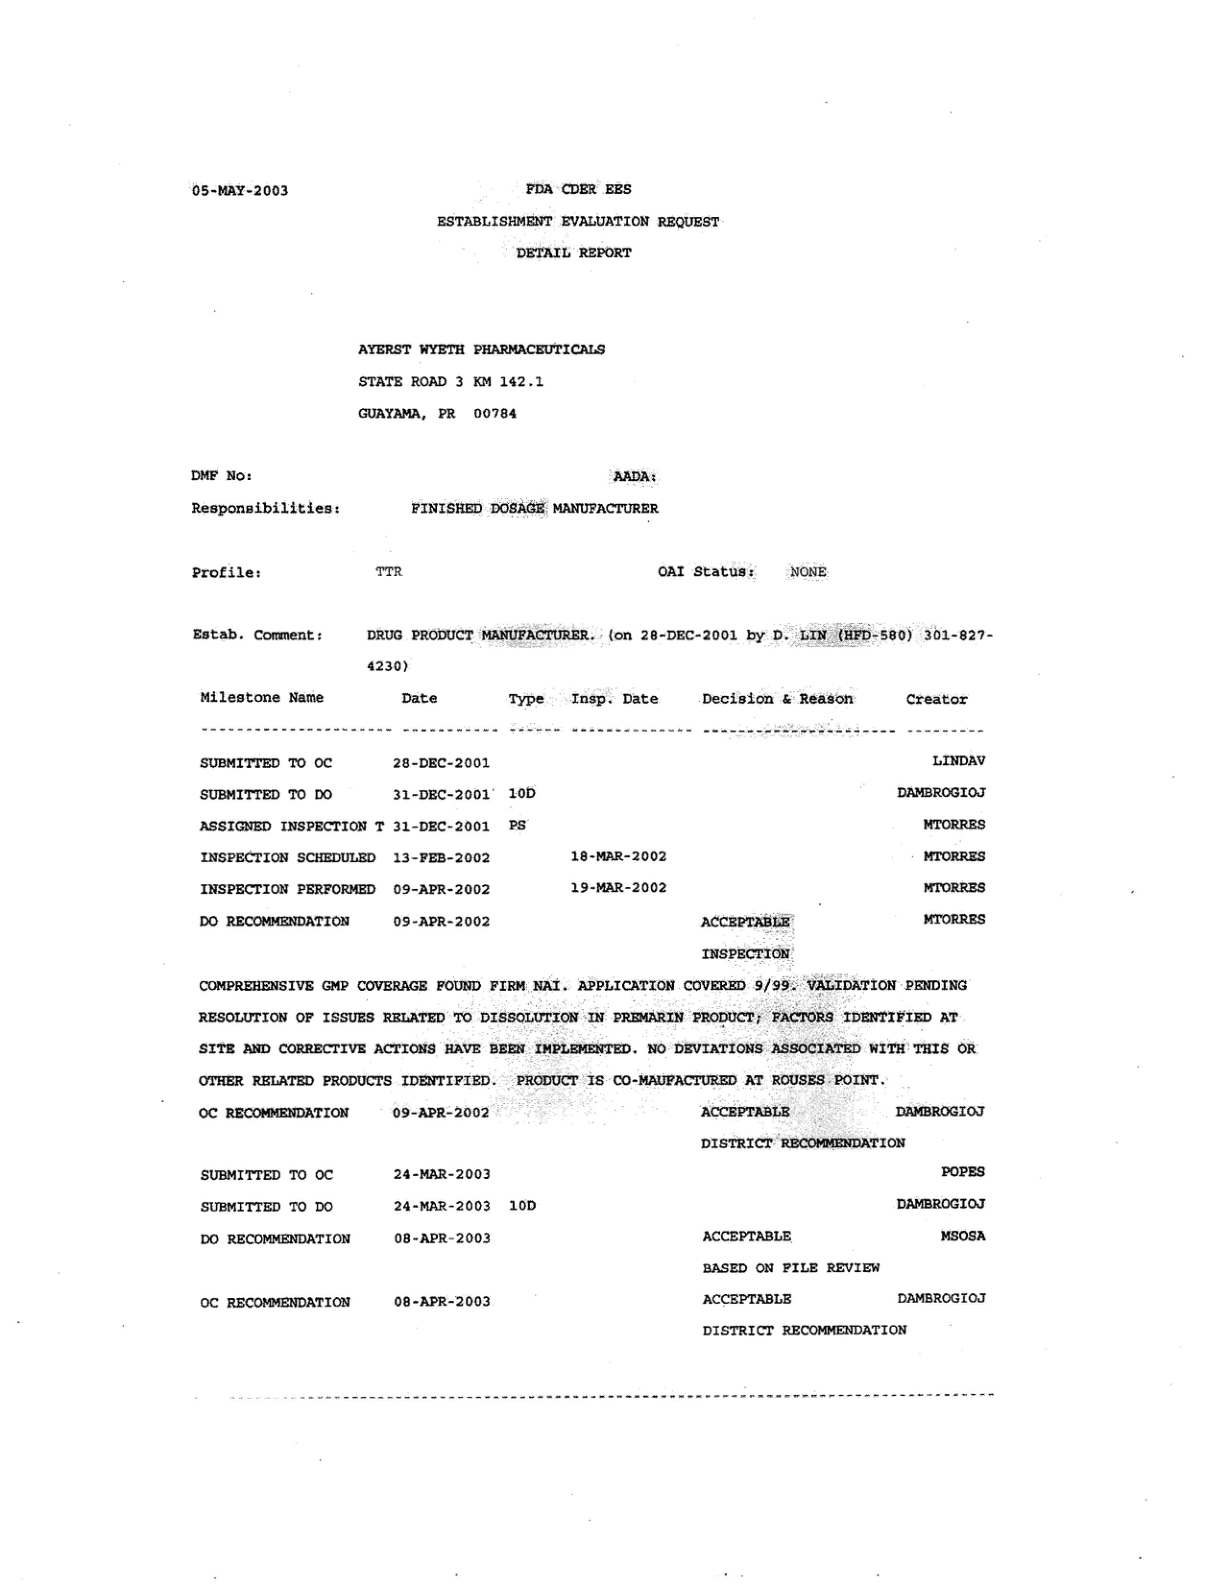nolines: (194, 681, 990, 962), (196, 1071, 990, 1341)
